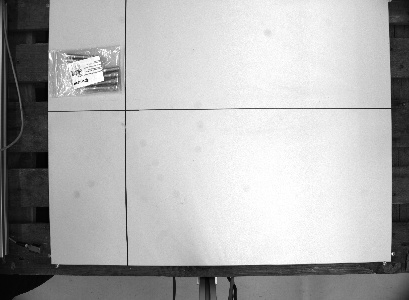t2: (45, 44, 123, 100)
